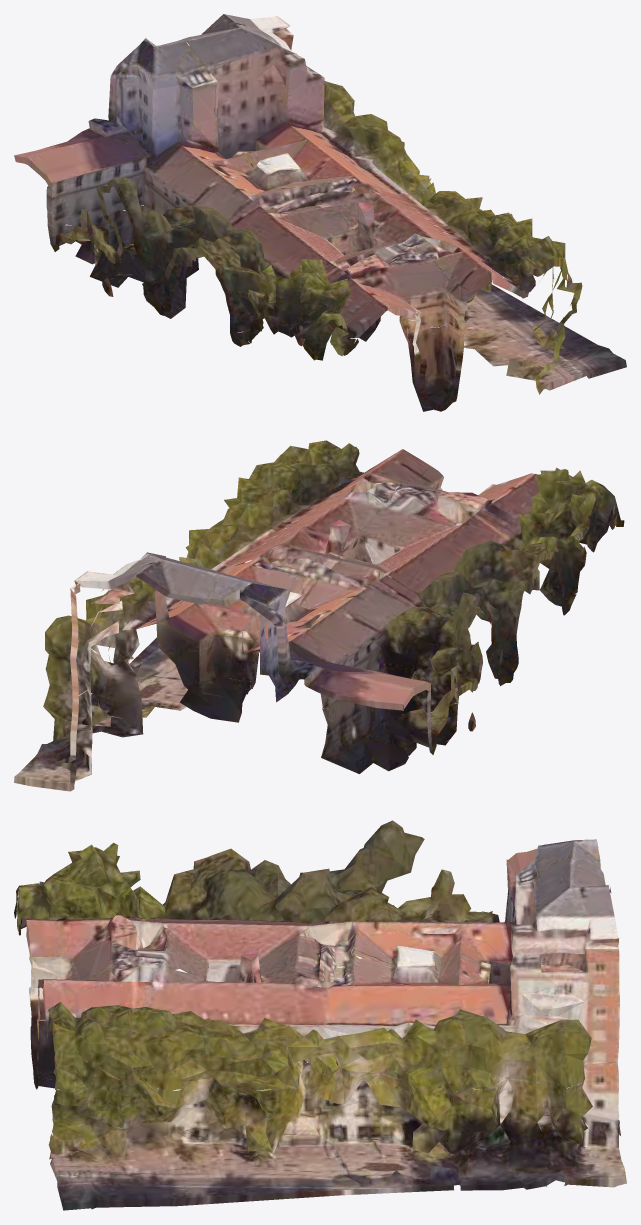
3 renders of one model, top to bottom at view 1: azimuth 30°, elevation 25°; view 2: azimuth 150°, elevation 25°; view 3: azimuth 270°, elevation 25°, orthographic. The views are drawn at different scales.
Parts seen in each view (by area): view 1: Mesh_0; view 2: Mesh_0; view 3: Mesh_0.
Part boxes in pixels (left/top/right/bottom): Mesh_0: left=14, top=14, right=626, bottom=411; Mesh_0: left=14, top=440, right=624, bottom=791; Mesh_0: left=14, top=820, right=626, bottom=1210.
Bounding box in the file's own units: 66.59 × 36.03 × 82.63.
1 material, 1 textured.
